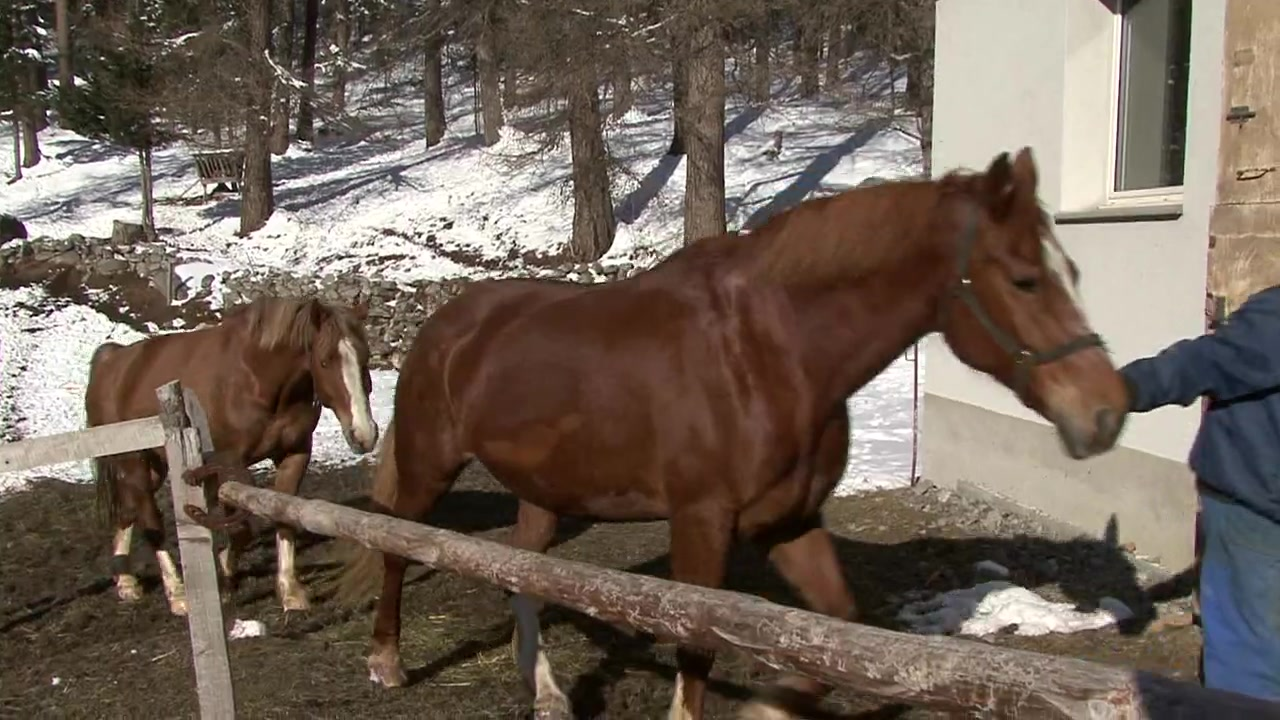horse: (339, 144, 1133, 720)
